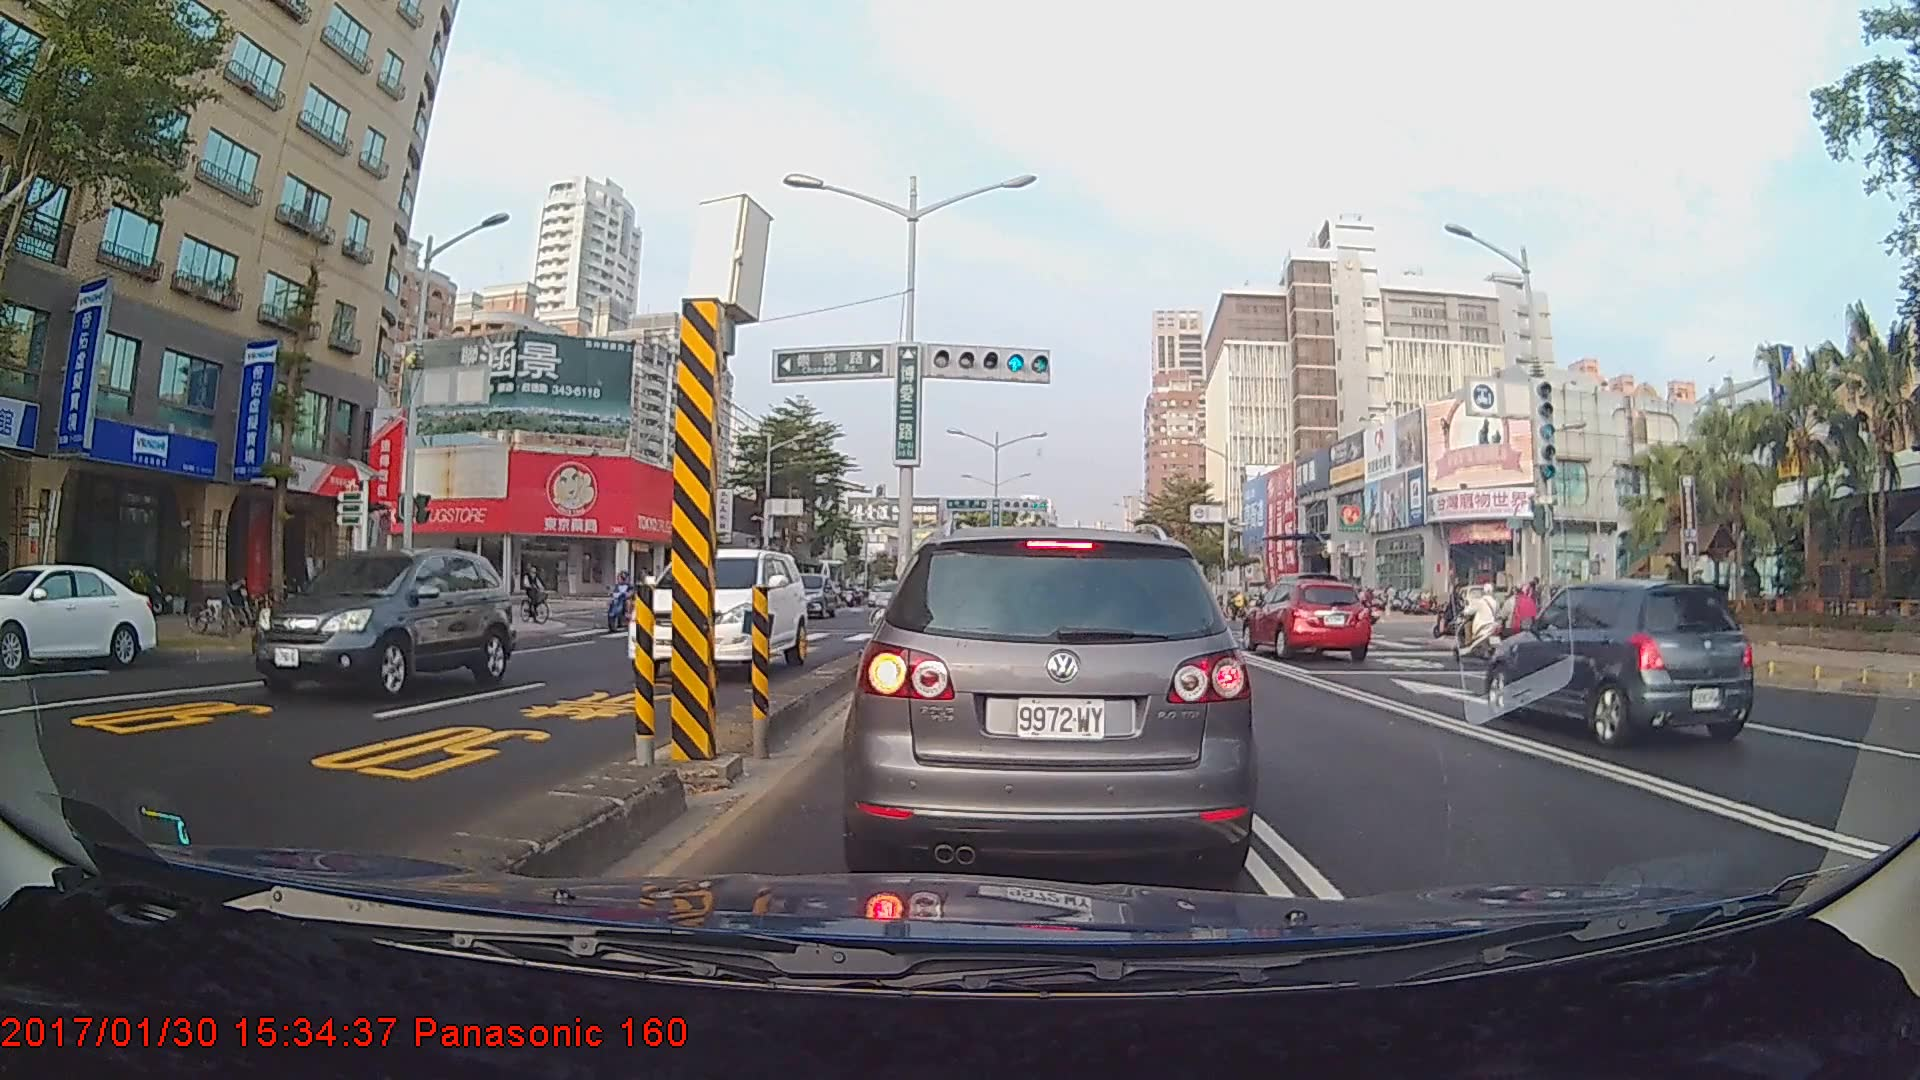rider: (1455, 585, 1514, 664), (518, 559, 561, 629), (605, 563, 646, 632), (1436, 582, 1473, 646)
vehicle: (855, 526, 1247, 876), (1484, 576, 1755, 749), (250, 545, 515, 697), (625, 544, 808, 683), (0, 561, 157, 671), (1240, 577, 1372, 662), (771, 572, 836, 618)
